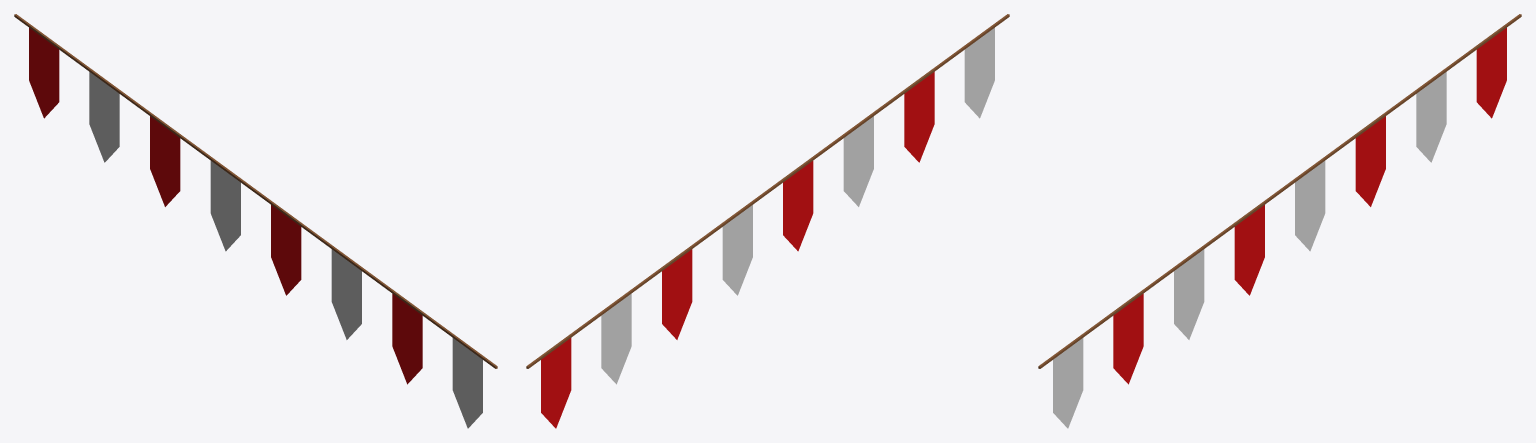
Rendered from FlagCord.fbx.
The picture shows the model from 3 angles, left to right: view 1: azimuth 30°, elevation 25°; view 2: azimuth 150°, elevation 25°; view 3: azimuth 330°, elevation 25°; orthographic projection.
Visible parts, largest first — view 1: Plane; view 2: Plane; view 3: Plane.
Boxes of the visible parts, bbox=[...] form: Plane: bbox=[14, 14, 497, 428]; Plane: bbox=[526, 14, 1009, 428]; Plane: bbox=[1038, 14, 1521, 428].
Size of the model in its own units: 8 by 304 by 3180.
